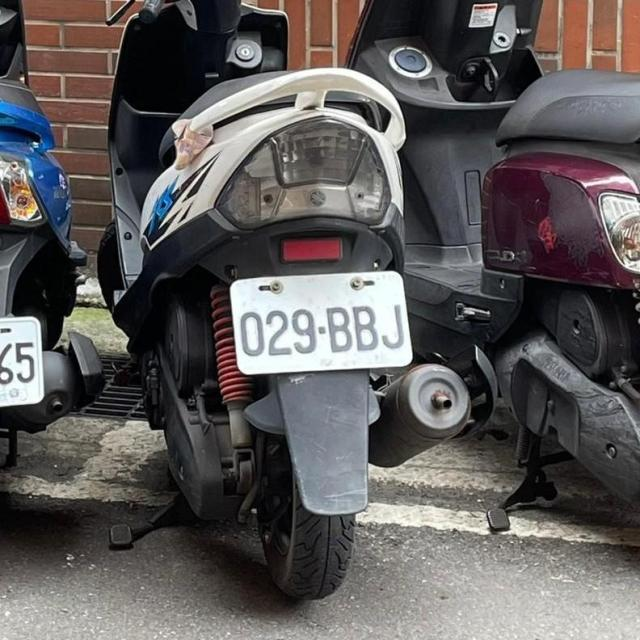W: (227, 266, 416, 379), (0, 306, 56, 422)
